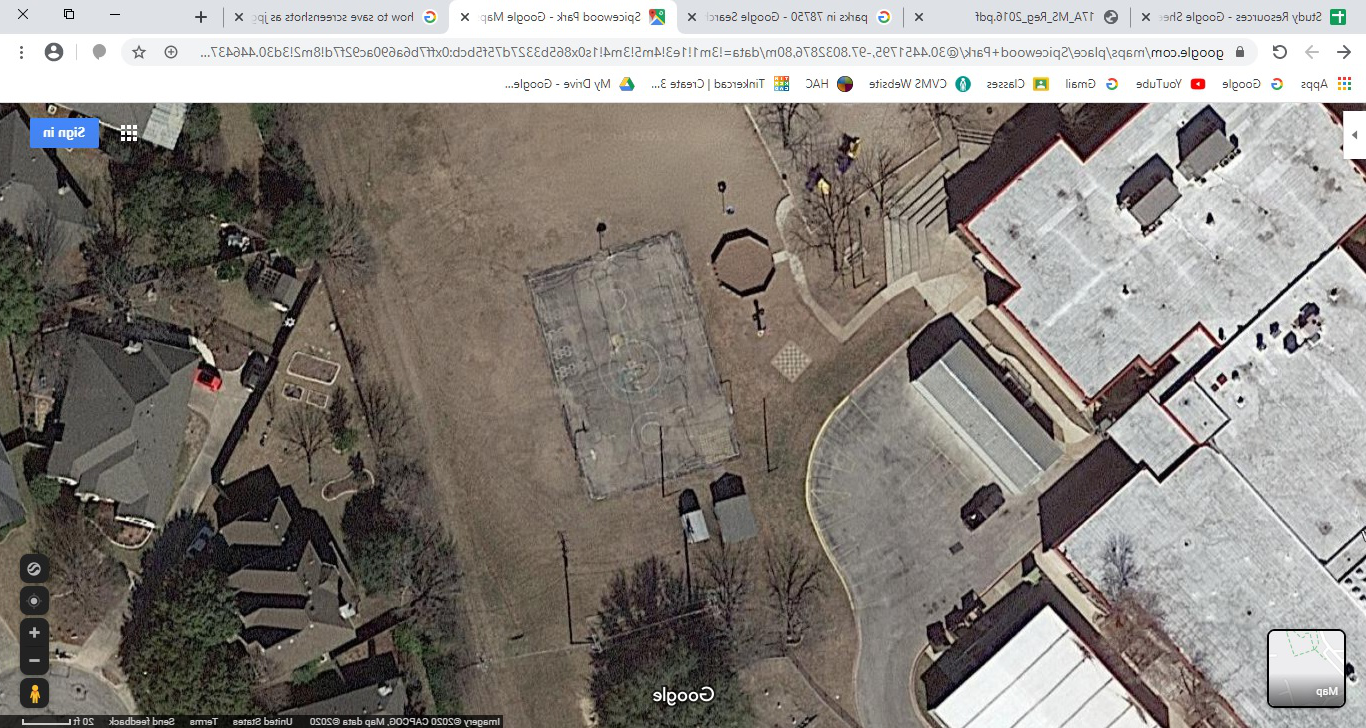basketball: (504, 232, 784, 530)
